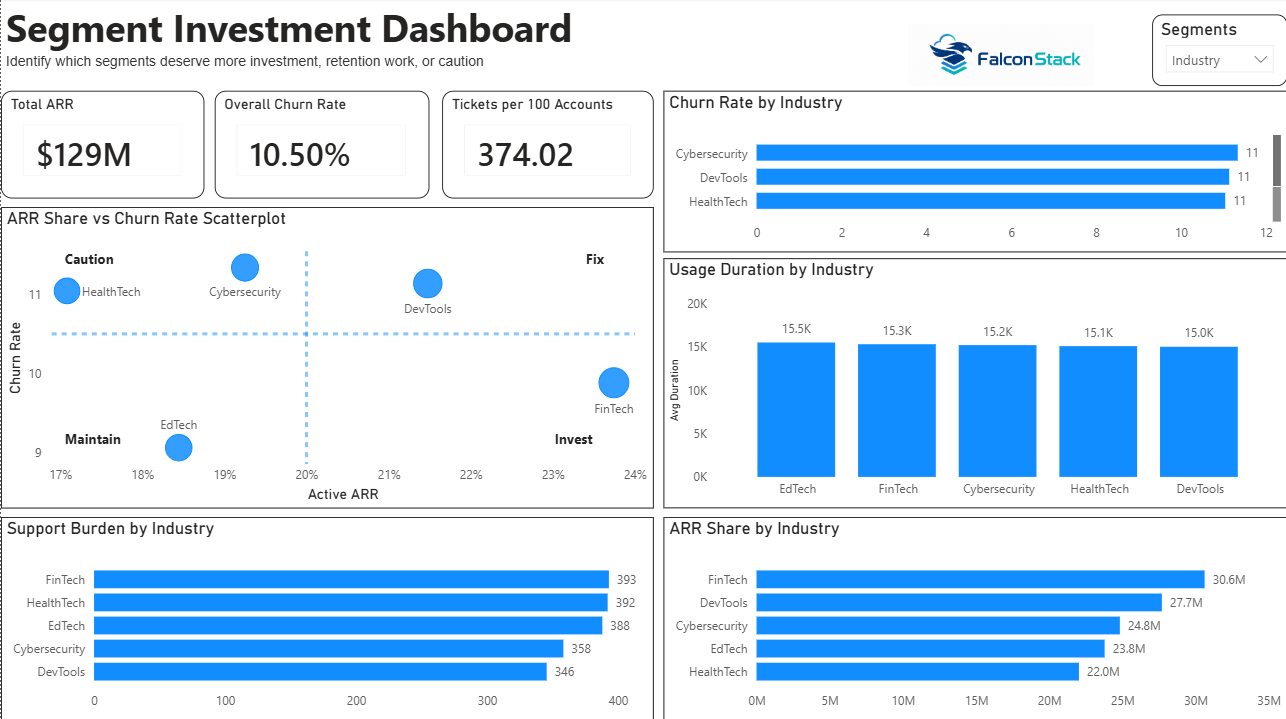

What the dashboard file says about the page in this screenshot:
{"tool":"powerbi","page":{"name":"Segment Investment Dashboard","canvas":[1280,720],"ordinal":2},"visuals":[{"type":"textbox","box":[0,0,640.1,81],"z":0},{"type":"cardVisual","title":"Total ARR ","fields":{"Data":["segment_subscription_info_vw.total_arr"]},"box":[0,93.3,202.8,107],"z":1000},{"type":"cardVisual","title":"Tickets per 100 Accounts","fields":{"Data":["segment_support_vw.Tickets_Per_100"]},"box":[439.1,93.3,210.2,107],"z":2000},{"type":"cardVisual","title":"Overall Churn Rate","fields":{"Data":["segment_subscription_info_vw.Churn_Rate"]},"box":[212.7,93.3,214,107],"z":3000},{"type":"image","box":[845.9,27.4,299.5,61.8],"z":4000},{"type":"clusteredBarChart","title":"ARR Share by Industry","fields":{"Category":["segment_metrics_vw.segment_name"],"Y":["Sum(segment_metrics_vw.active_arr)"]},"box":[659.3,517.5,620.7,202.8],"z":5000},{"type":"slicer","title":"Segments","fields":{"Values":["segment_metrics_vw.segment_type"]},"box":[1145.6,17.4,134.3,70.9],"z":6000},{"type":"clusteredBarChart","title":"Churn Rate by Industry","fields":{"Category":["segment_metrics_vw.segment_name"],"Y":["Sum(segment_metrics_vw.churn_rate)"]},"box":[659.3,93.3,620.7,160.5],"z":7000},{"type":"scatterChart","title":"ARR Share vs Churn Rate Scatterplot","fields":{"X":["segment_metrics_vw.ARR Share"],"Y":["Sum(segment_metrics_vw.churn_rate)"],"Size":["Sum(segment_metrics_vw.active_arr)"],"Category":["segment_metrics_vw.segment_name"]},"box":[0,209,649.3,299.8],"z":8000},{"type":"clusteredColumnChart","title":"Usage Duration by Industry","fields":{"Category":["segment_metrics_vw.segment_name"],"Y":["Avg(segment_metrics_vw.avg_usage_duration_secs)"]},"box":[659.3,260,620.7,248.8],"z":9000},{"type":"clusteredBarChart","title":"Support Burden by Industry","fields":{"Category":["segment_support_vw.segment_name"],"Y":["Sum(segment_support_vw.tickets_per_100_accounts)"]},"box":[0,517.5,649.3,202.8],"z":10000},{"type":"textbox","box":[58.5,425.4,74.6,27.4],"z":11000},{"type":"textbox","box":[58.5,246.3,63.4,27.4],"z":12000},{"type":"textbox","box":[577.2,246.3,63.4,27.4],"z":13000},{"type":"textbox","box":[546.1,425.4,63.4,27.4],"z":14000}]}

Visuals, with their boxes in screenshot pixels (x1, y1, x2, y2), scaled from the page's 1280x720 canvas onto the 1286x719 screenshot:
textbox: (left=0, top=0, right=643, bottom=81)
"Total ARR " cardVisual: (left=0, top=93, right=204, bottom=200)
"Tickets per 100 Accounts" cardVisual: (left=441, top=93, right=652, bottom=200)
"Overall Churn Rate" cardVisual: (left=214, top=93, right=429, bottom=200)
image: (left=850, top=27, right=1151, bottom=89)
"ARR Share by Industry" clusteredBarChart: (left=662, top=517, right=1285, bottom=718)
"Segments" slicer: (left=1151, top=17, right=1285, bottom=88)
"Churn Rate by Industry" clusteredBarChart: (left=662, top=93, right=1285, bottom=253)
"ARR Share vs Churn Rate Scatterplot" scatterChart: (left=0, top=209, right=652, bottom=508)
"Usage Duration by Industry" clusteredColumnChart: (left=662, top=260, right=1285, bottom=508)
"Support Burden by Industry" clusteredBarChart: (left=0, top=517, right=652, bottom=718)
textbox: (left=59, top=425, right=134, bottom=452)
textbox: (left=59, top=246, right=122, bottom=273)
textbox: (left=580, top=246, right=644, bottom=273)
textbox: (left=549, top=425, right=612, bottom=452)
